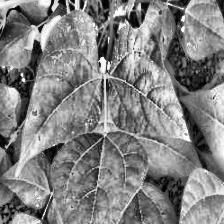ALS: (12, 12, 105, 175), (185, 78, 224, 176), (109, 180, 180, 224)
